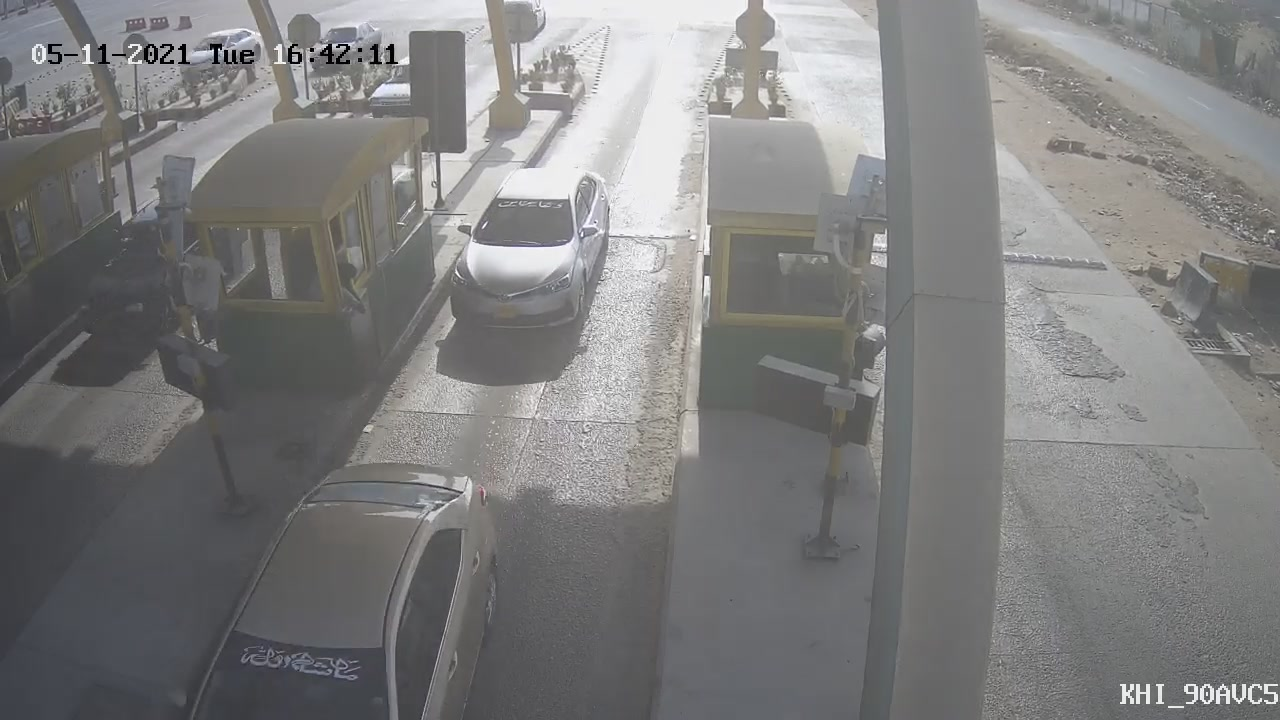F1: (429, 151, 626, 355)
